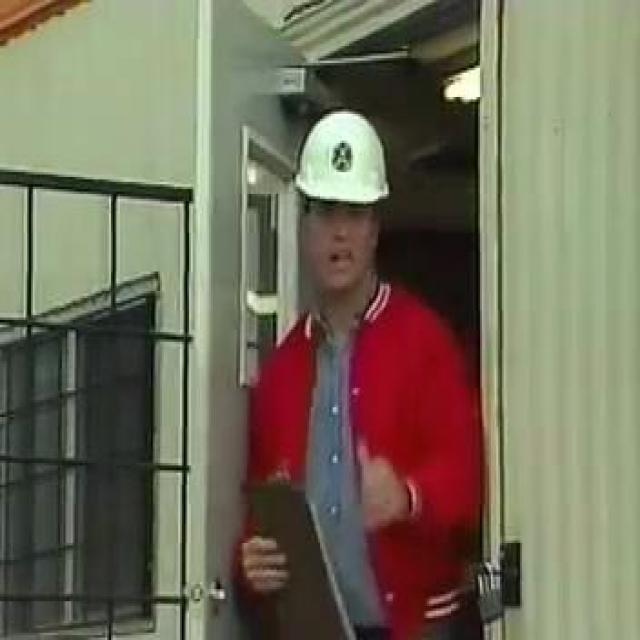Reflective-Jacket: (213, 281, 505, 638)
Safety-Helmet: (274, 94, 406, 228)
